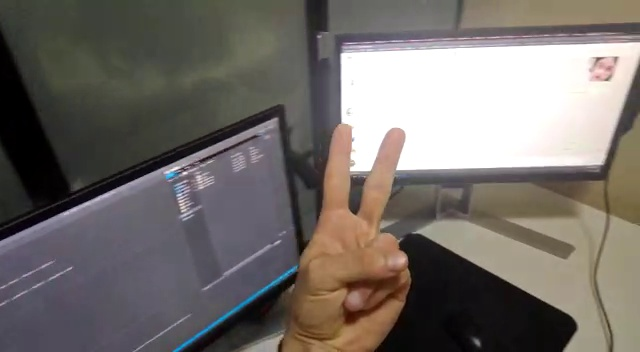Peace: (276, 119, 423, 347)
